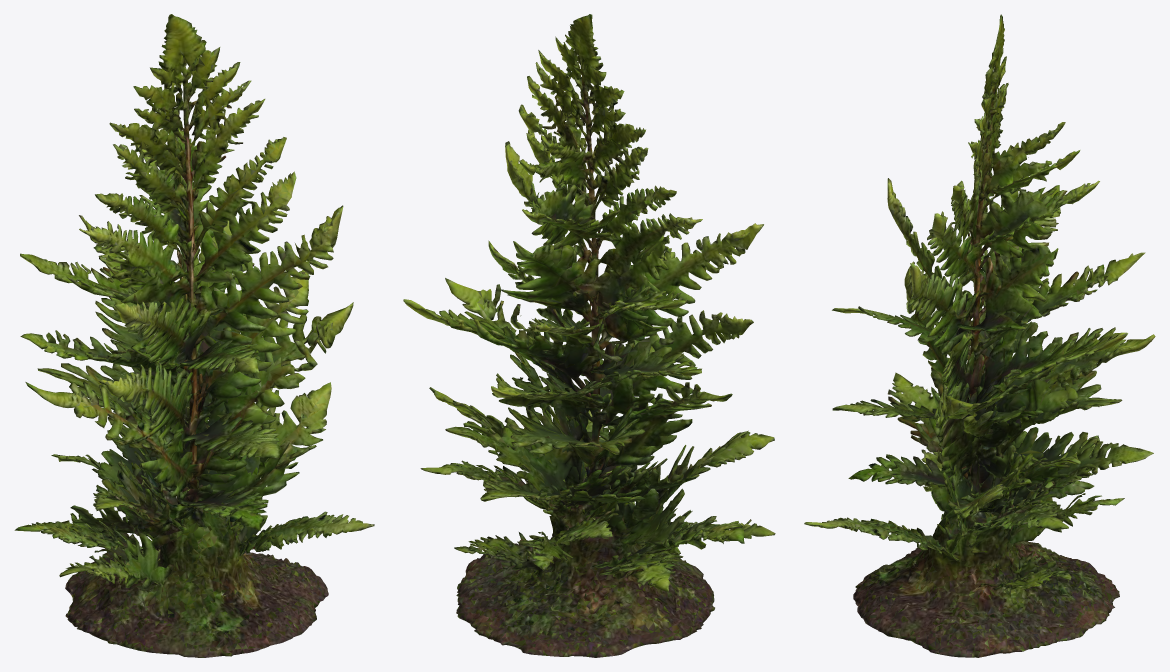
File: A_majestic_forest_fer.glb
3 views of the same model, side by side, from view 1: azimuth 30°, elevation 25°; view 2: azimuth 150°, elevation 25°; view 3: azimuth 270°, elevation 25° (orthographic). The views are drawn at different scales.
Visible parts, largest first — view 1: A_majestic_forest_fer; view 2: A_majestic_forest_fer; view 3: A_majestic_forest_fer.
Boxes of the visible parts, x1,y1,x2,y2 form: A_majestic_forest_fer: [14, 14, 374, 657]; A_majestic_forest_fer: [403, 14, 775, 657]; A_majestic_forest_fer: [804, 14, 1155, 657].
Size of the model in its own units: 1.08 by 1.9 by 1.05.
1 material, 1 textured.
